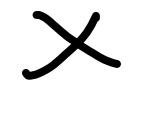mult: (22, 11, 121, 80)
